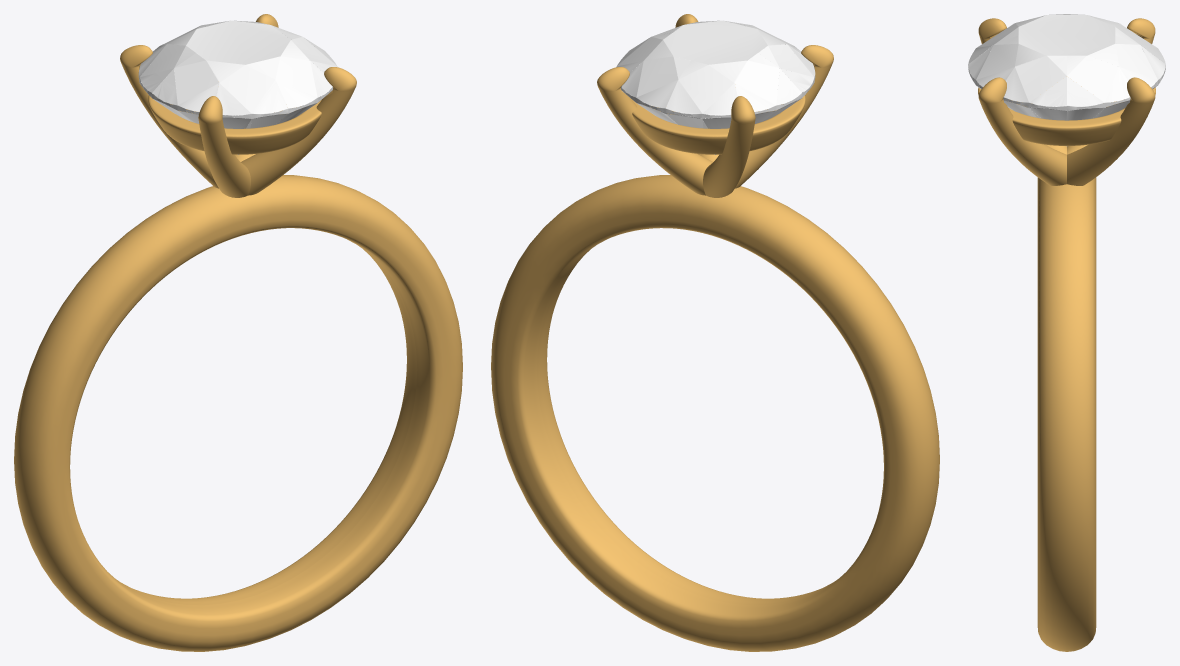
File: ring-original.glb
3 renders of one model, left to right at view 1: azimuth 30°, elevation 25°; view 2: azimuth 150°, elevation 25°; view 3: azimuth 270°, elevation 25°, orthographic.
Visible parts, largest first — view 1: Band, Stone_Main, Gallery, Prong_02, Prong_01, Prong_04; view 2: Band, Stone_Main, Gallery, Prong_03, Prong_04, Prong_01; view 3: Band, Stone_Main, Prong_03, Prong_02, Gallery, Prong_01, Prong_04.
Boxes of the visible parts, x1,y1,x2,y2 form: Band: (14, 175, 462, 651); Stone_Main: (138, 20, 337, 154); Gallery: (148, 95, 321, 154); Prong_02: (241, 67, 356, 195); Prong_01: (198, 96, 250, 197); Prong_04: (120, 45, 218, 188); Band: (491, 175, 939, 651); Stone_Main: (616, 20, 815, 154); Gallery: (632, 95, 805, 154); Prong_03: (597, 67, 712, 195); Prong_04: (703, 96, 755, 197); Prong_01: (735, 45, 833, 188); Band: (1037, 177, 1096, 651); Stone_Main: (968, 14, 1165, 146); Prong_03: (1067, 77, 1155, 185); Prong_02: (978, 77, 1066, 185); Gallery: (978, 86, 1155, 145); Prong_01: (978, 18, 1066, 154); Prong_04: (1067, 18, 1155, 154).
Bounding box in the file's own units: 0.0213 × 0.0279 × 0.00839.
